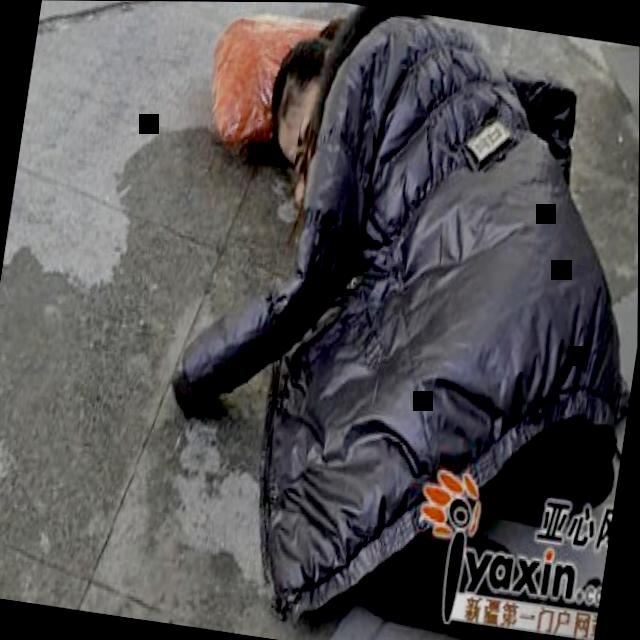Fall-Detected: (135, 1, 640, 640)
